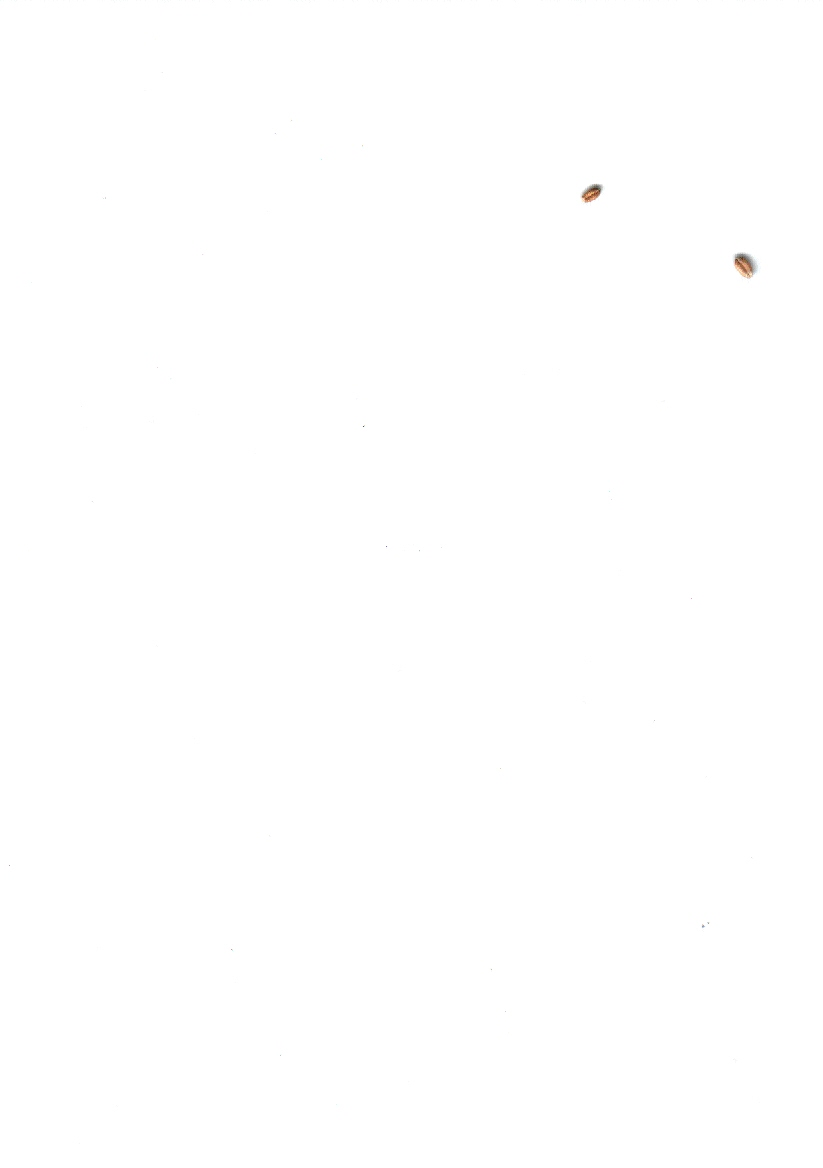grains: (724, 247, 767, 286), (572, 176, 611, 211)
